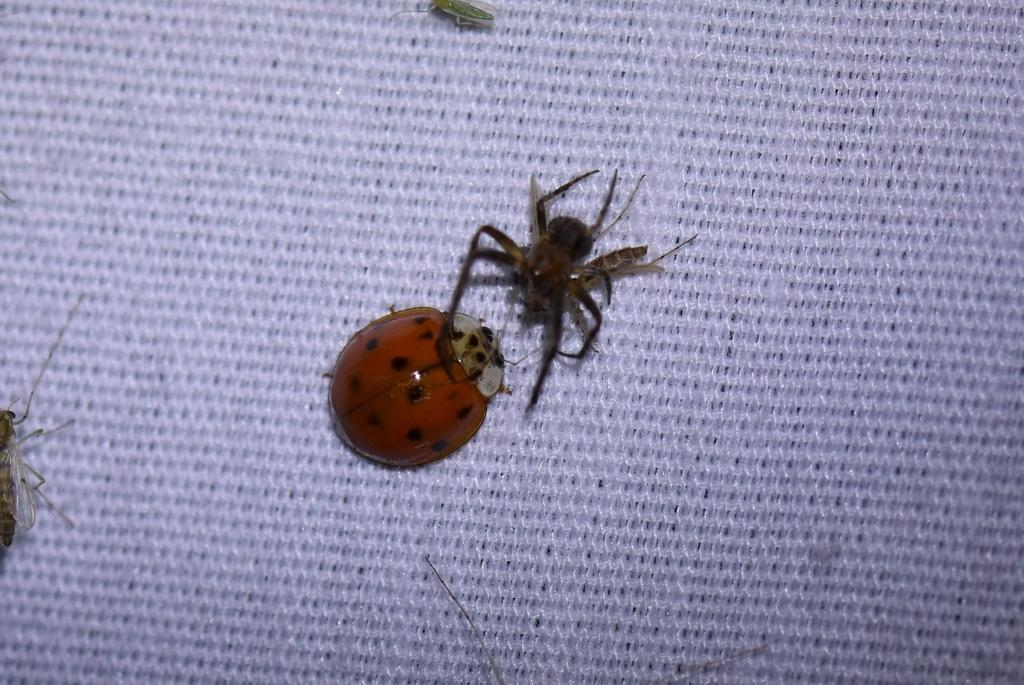ladybug: (319, 299, 521, 479)
